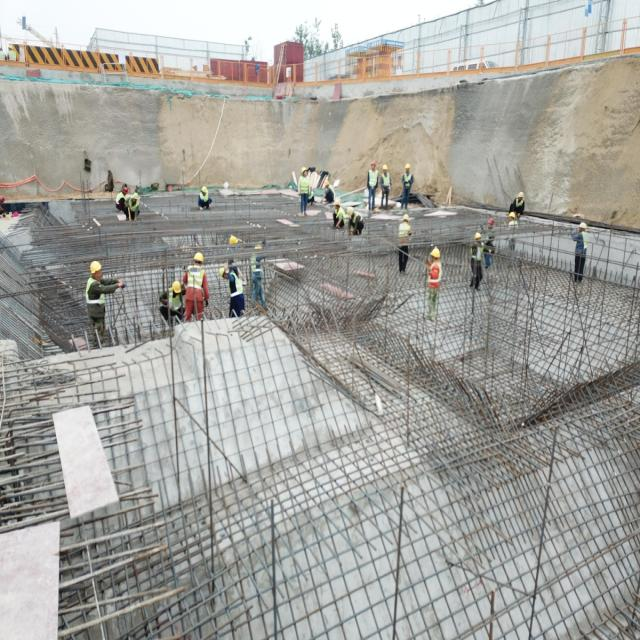crane: (15, 17, 60, 48)
